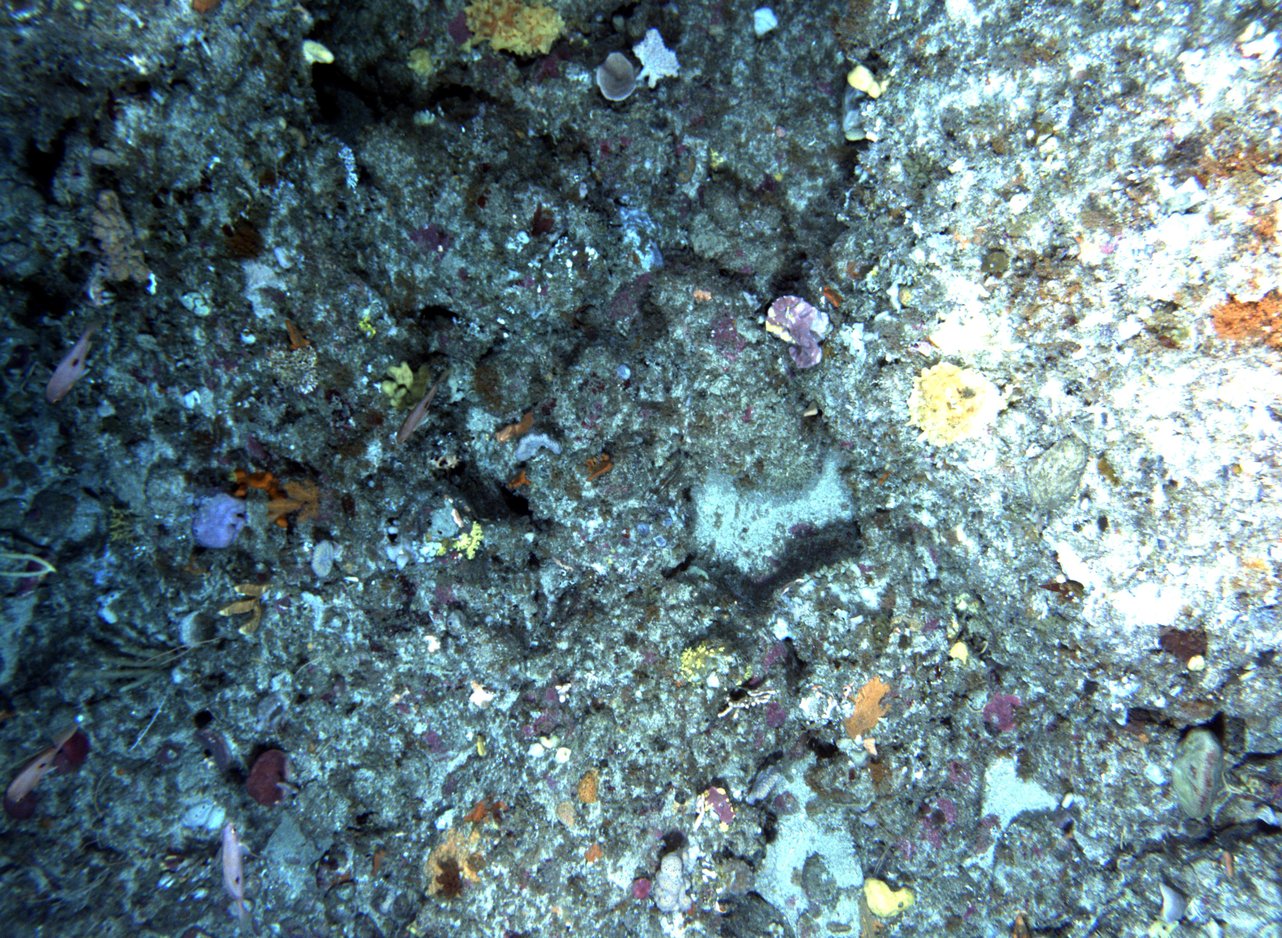Brachionichthyidae: (282, 318, 312, 351)
